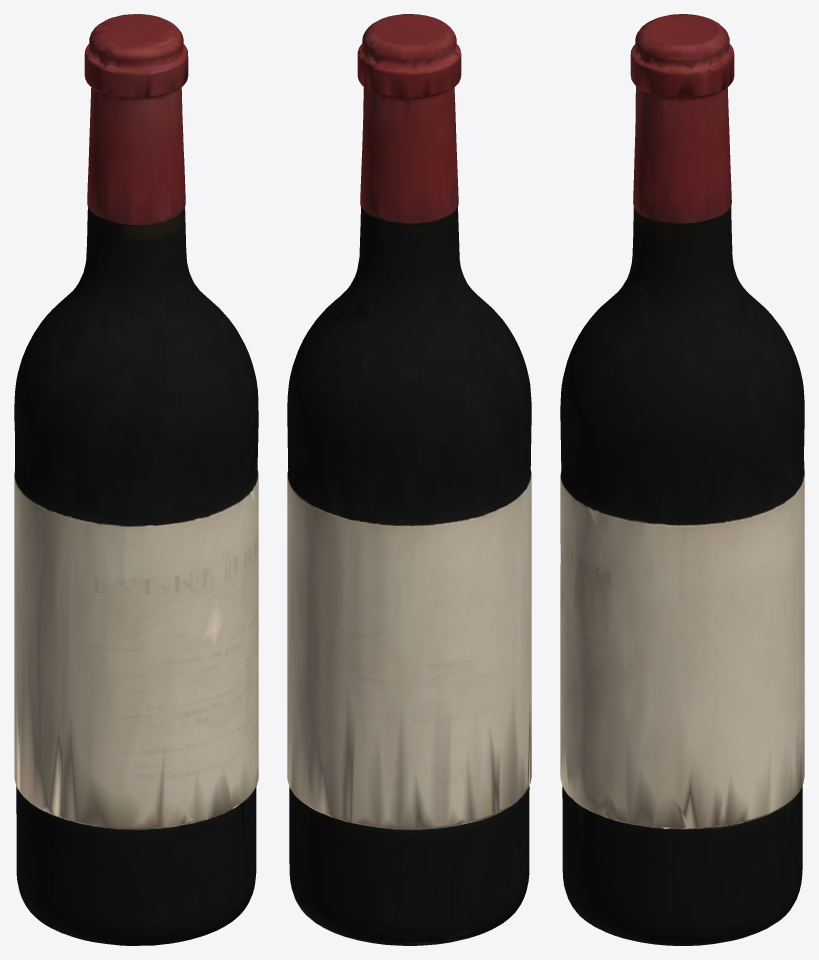
The model's file is grapevyne-meshy-bottle.mobile.glb.
3 views of the same model, side by side, from view 1: azimuth 30°, elevation 25°; view 2: azimuth 150°, elevation 25°; view 3: azimuth 270°, elevation 25° (orthographic).
Parts seen in each view (by area): view 1: Mesh_0; view 2: Mesh_0; view 3: Mesh_0.
Boxes of the visible parts, x1,y1,x2,y2 form: Mesh_0: (14, 14, 258, 945); Mesh_0: (287, 14, 531, 945); Mesh_0: (560, 14, 804, 945).
Bounding box in the file's own units: 0.4805 × 1.9 × 0.4807.
Materials: 1 (1 with a texture image).
